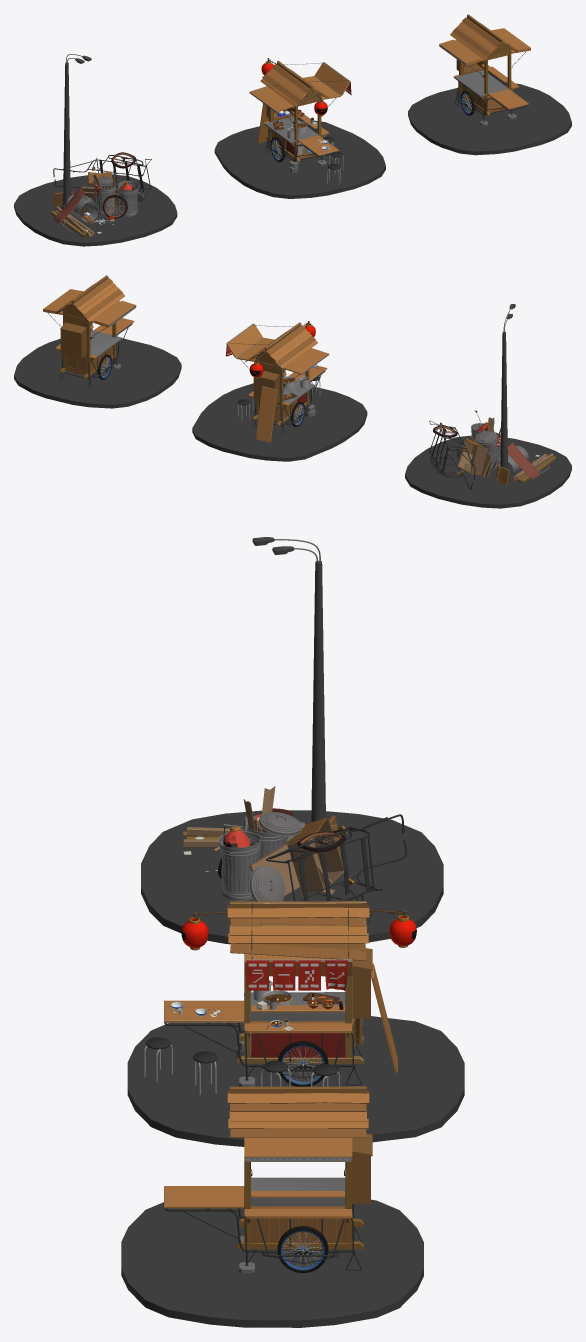
File: tp_jp_yatai.glb
3 renders of one model, top to bottom at view 1: azimuth 30°, elevation 25°; view 2: azimuth 150°, elevation 25°; view 3: azimuth 270°, elevation 25°, orthographic. The views are drawn at different scales.
Parts seen in each view (by area): view 1: Plane.000, Plane.001, Plane.043, Cylinder.035, Plane.072, Cube.455, Cylinder.758, Cube.407, Plane.112, Cube.096, Cylinder.754, Cube.077 (+6 smaller); view 2: Plane.000, Plane.001, Plane.043, Cube.408, Cylinder.035, Cube.455, Cube.407, Plane.072, Cube.127, Cube.077, Cube.029, Cube.125 (+3 smaller); view 3: Plane.001, Plane.000, Plane.043, Cylinder.035, Cube.518, Cube.097, Cylinder.758, Cube.096, Cube.125, Cube.427, Cube.134, Cube.464 (+14 smaller).
Boxes of the visible parts, x1,y1,x2,y2 form: Plane.000: [214, 120, 385, 198]; Plane.001: [408, 83, 571, 155]; Plane.043: [14, 174, 177, 246]; Cylinder.035: [63, 62, 70, 204]; Plane.072: [454, 70, 508, 96]; Cube.455: [314, 62, 350, 95]; Cylinder.758: [117, 180, 138, 216]; Cube.407: [250, 86, 294, 112]; Plane.112: [264, 116, 318, 142]; Cube.096: [488, 89, 528, 109]; Cylinder.754: [95, 183, 116, 215]; Cube.077: [439, 39, 480, 64]; Plane.000: [192, 383, 367, 461]; Plane.001: [14, 338, 181, 408]; Plane.043: [405, 435, 571, 508]; Cube.408: [256, 386, 276, 442]; Cylinder.035: [500, 331, 507, 468]; Cube.455: [226, 323, 262, 357]; Cube.407: [283, 348, 328, 374]; Plane.072: [90, 330, 122, 357]; Cube.127: [61, 329, 80, 356]; Cube.077: [94, 300, 136, 326]; Cube.029: [507, 442, 540, 479]; Cube.125: [43, 289, 83, 312]; Plane.001: [121, 1199, 423, 1327]; Plane.000: [127, 1016, 464, 1146]; Plane.043: [141, 810, 443, 944]; Cylinder.035: [311, 560, 325, 822]; Cube.518: [251, 1033, 345, 1057]; Cube.097: [251, 1218, 345, 1242]; Cylinder.758: [218, 830, 261, 901]; Cube.096: [164, 1186, 244, 1208]; Cube.125: [244, 1141, 352, 1158]; Cube.427: [164, 1000, 244, 1022]; Cube.134: [227, 1093, 369, 1103]; Cube.464: [227, 907, 369, 918].
Bounding box in the file's own units: 4006 × 1199 × 1139.
